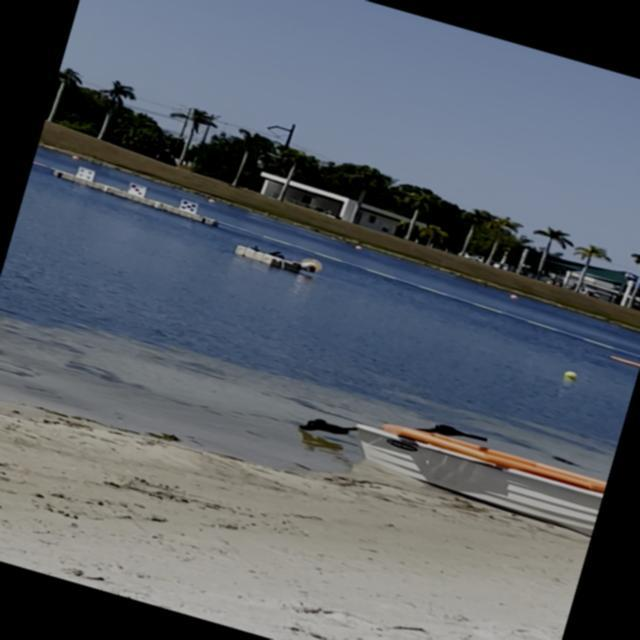buoy: (564, 369, 576, 378)
